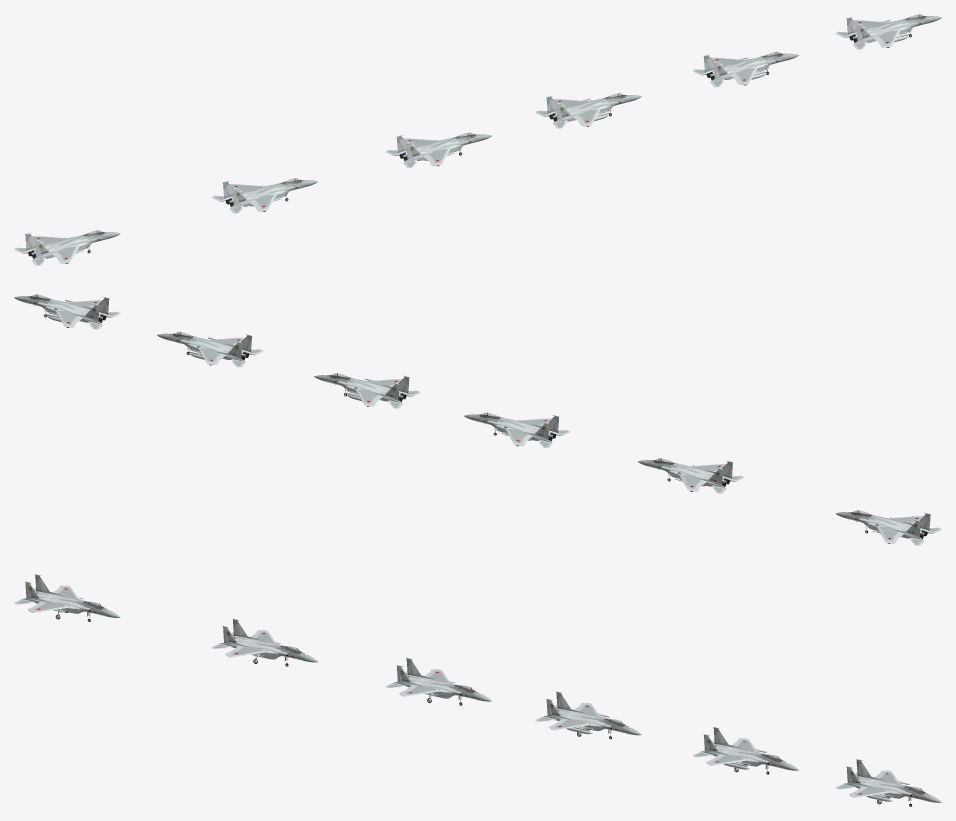
File: f15jft3.glb
3 views of the same model, one above another, from view 1: azimuth 30°, elevation 25°; view 2: azimuth 150°, elevation 25°; view 3: azimuth 330°, elevation 25° (orthographic).
Parts seen in each view (by area): view 1: fuselage.003, fuselage.004, fuselage.002, fuselage.001, fuselage, fuselage.005; view 2: fuselage.003, fuselage.002, fuselage.004, fuselage.001, fuselage, fuselage.005; view 3: fuselage.004, fuselage.002, fuselage.003, fuselage.001, fuselage, fuselage.005.
Boxes of the visible parts, left/top/right/bottom form: fuselage.003: left=212, top=178, right=317, bottom=213; fuselage.004: left=14, top=230, right=120, bottom=265; fuselage.002: left=385, top=132, right=491, bottom=167; fuselage.001: left=692, top=52, right=798, bottom=87; fuselage: left=535, top=93, right=641, bottom=128; fuselage.005: left=835, top=14, right=941, bottom=49; fuselage.003: left=638, top=458, right=743, bottom=493; fuselage.002: left=464, top=412, right=570, bottom=447; fuselage.004: left=835, top=510, right=941, bottom=545; fuselage.001: left=157, top=332, right=263, bottom=367; fuselage: left=314, top=373, right=420, bottom=408; fuselage.005: left=14, top=294, right=120, bottom=329; fuselage.004: left=14, top=574, right=120, bottom=621; fuselage.002: left=385, top=657, right=491, bottom=705; fuselage.003: left=212, top=618, right=317, bottom=666; fuselage.001: left=692, top=727, right=798, bottom=774; fuselage: left=535, top=691, right=641, bottom=739; fuselage.005: left=835, top=759, right=941, bottom=806.
Size of the model in its own units: 169 by 8.13 by 11.7.
31 materials, 2 textured.
